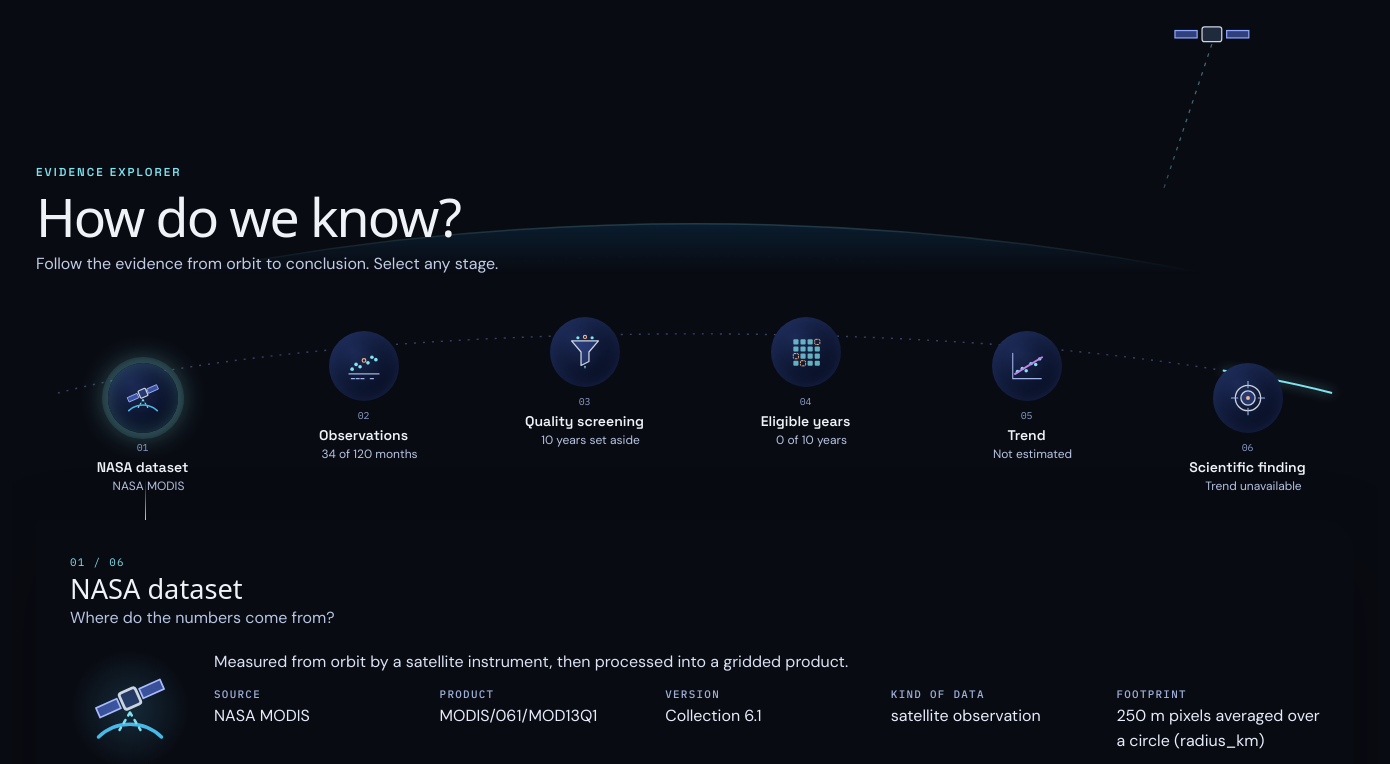
it: Experience B: evidence explorer › inspects a year's real months and links it to the chart focus
(page scrolled)
Click the button "04 Eligible years 0 of 10 years" at (806, 385), box [699,311,912,458]
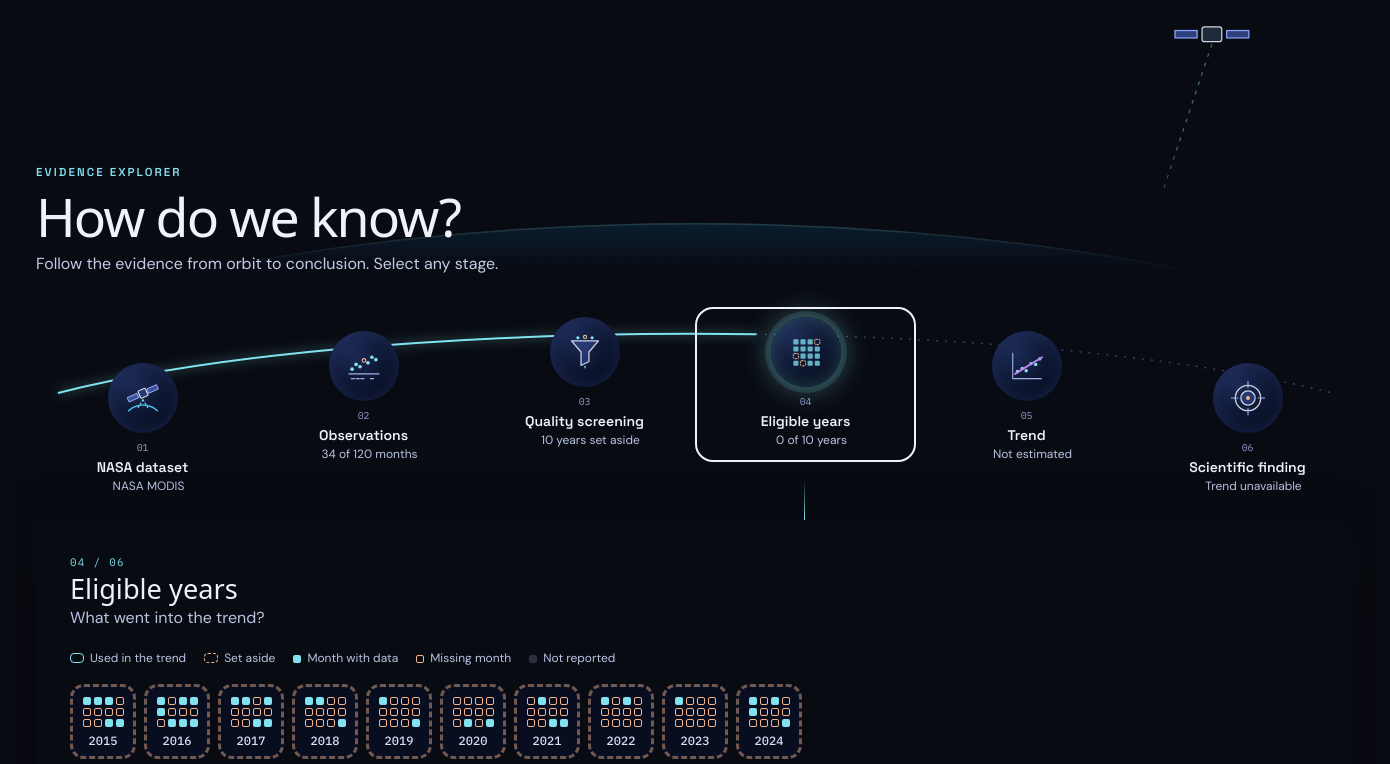
Click the button named "2018: set aside, 3 of 12 months with data" at (325, 722), box [292,684,358,759]
(page scrolled)
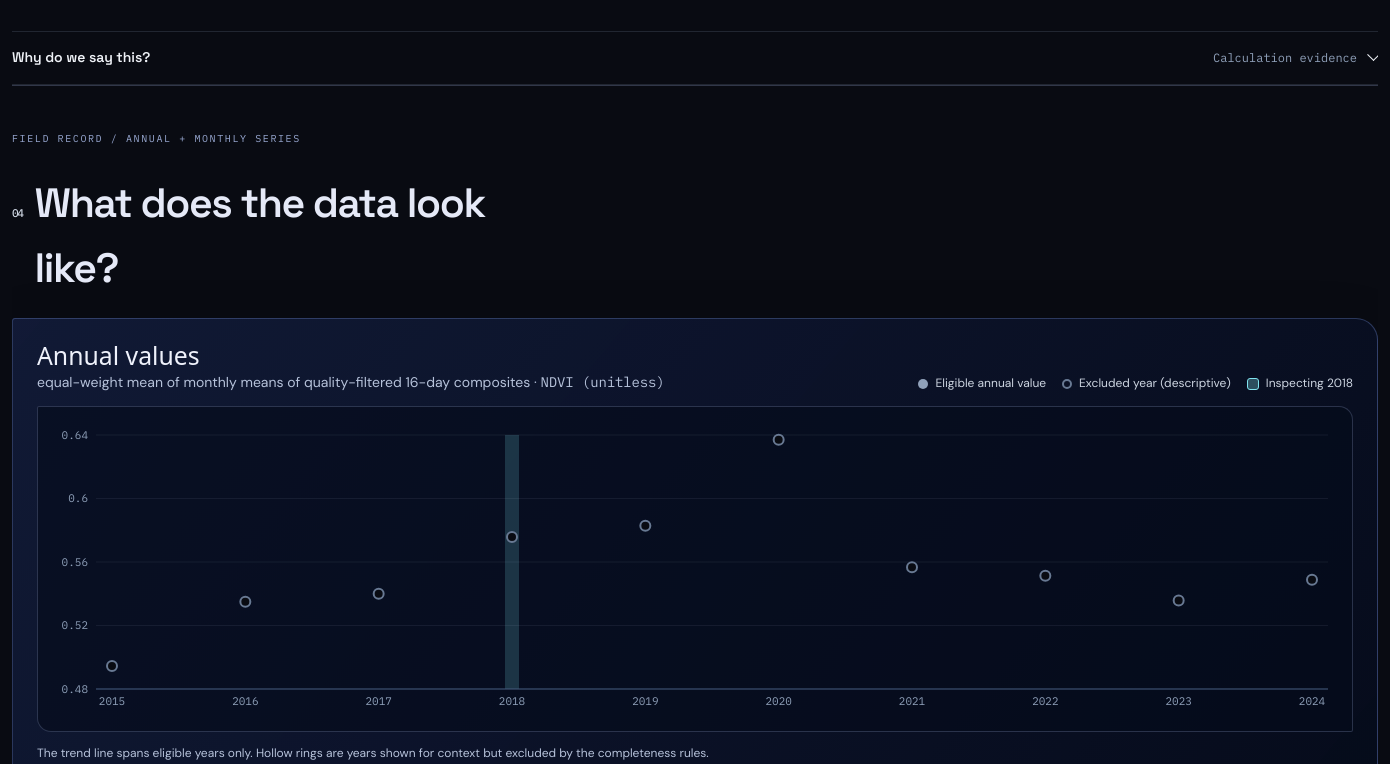
Result: the list item "Inspecting 2018" is shown at [1247,374,1353,394]
